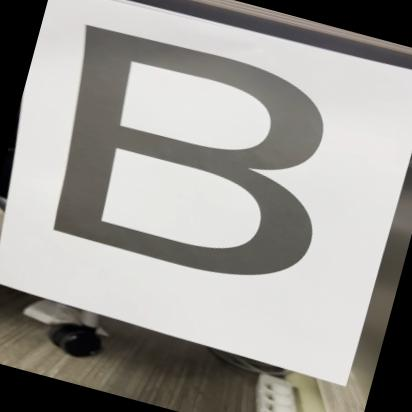seat: (12, 7, 382, 318)
